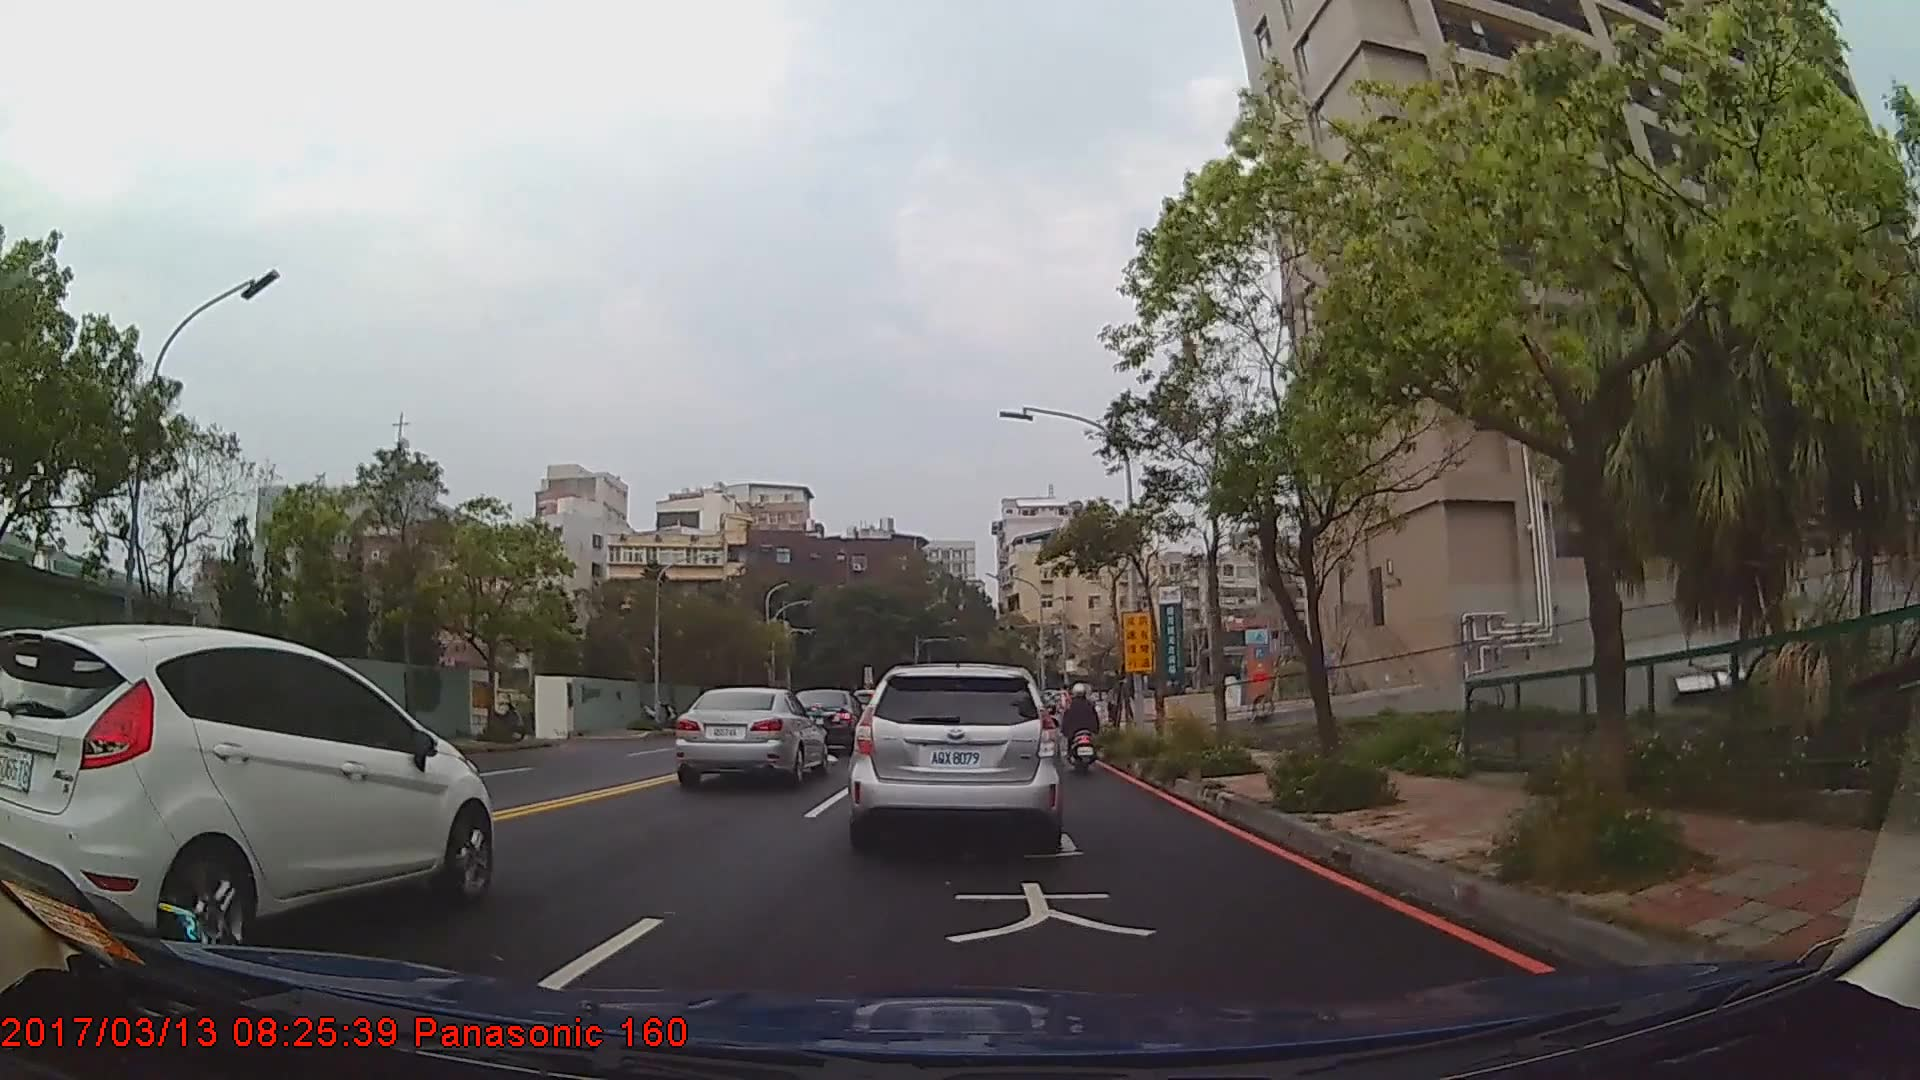rider: (1062, 682, 1102, 777)
vehicle: (0, 619, 492, 967), (847, 656, 1064, 846), (672, 684, 828, 786), (785, 686, 864, 751)
